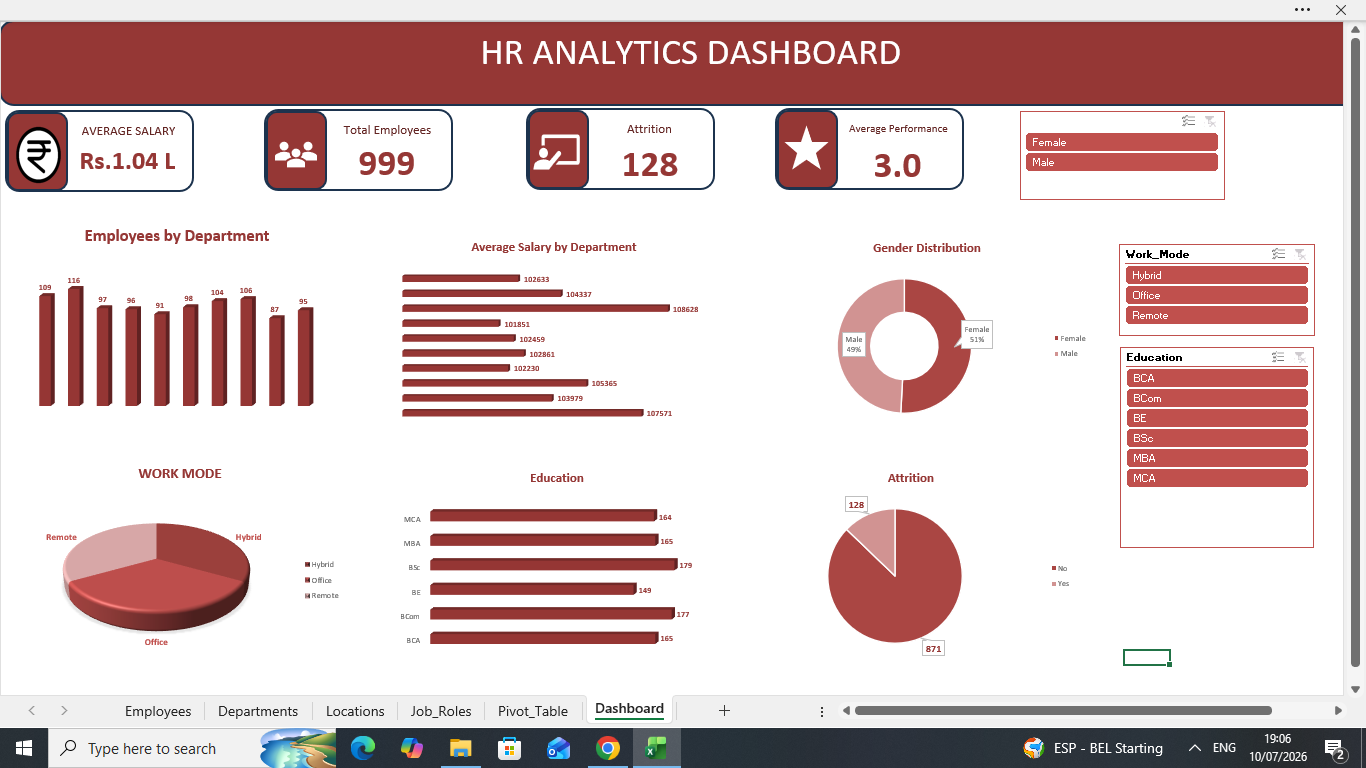

What the dashboard file says about the page in this screenshot:
{"tool":"powerbi","page":{"name":"Page 1","canvas":[1280,720],"ordinal":0},"visuals":[{"type":"textbox","box":[0,0,1280.2,79.2],"z":0},{"type":"card","fields":{"Values":["Departments.Total Employees"]},"box":[254.9,79.2,181.4,149.8],"z":1000},{"type":"card","fields":{"Values":["Departments.Average Salary"]},"box":[459.4,79.2,181.4,149.8],"z":2000},{"type":"card","fields":{"Values":["Departments.Attrition Count"]},"box":[663.8,79.2,181.4,149.8],"z":3000},{"type":"card","fields":{"Values":["Departments.Average Performance"]},"box":[865.4,79.2,181.4,149.8],"z":4000},{"type":"card","fields":{"Values":["Departments.Average Experience"]},"box":[1064.2,79.2,181.4,149.8],"z":5000},{"type":"clusteredColumnChart","title":"Employees by Department","fields":{"Category":["Departments.Department_ID"],"Y":["CountNonNull(Employees.Employee_ID)"]},"box":[254.9,234.7,306.7,252],"z":6000},{"type":"barChart","title":"Average Salary by Department","fields":{"Y":["Sum(Employees.Salary)"],"Category":["Departments.Department_ID"]},"box":[949,233.3,331.2,252],"z":7000},{"type":"donutChart","title":"Gender Distribution","fields":{"Category":["Employees.Gender"],"Y":["CountNonNull(Employees.Gender)"]},"box":[599,237.6,315.4,247.7],"z":8000},{"type":"pieChart","title":"Work Mode","fields":{"Y":["CountNonNull(Employees.Work_Mode)"],"Category":["Employees.Work_Mode"]},"box":[289.4,485.3,344.2,234.7],"z":9000},{"type":"clusteredBarChart","title":"Education Distribution","fields":{"Y":["CountNonNull(Employees.Employee_ID)"],"Category":["Employees.Education"]},"box":[633.6,485.3,315.4,234.7],"z":10000},{"type":"donutChart","title":" Attrition","fields":{"Y":["CountNonNull(Employees.Attrition)"],"Category":["Employees.Attrition"]},"box":[949,485.3,331.2,234.7],"z":11000},{"type":"slicer","fields":{"Values":["Employees.Work_Mode"]},"box":[0,603.4,217.4,113.8],"z":14000},{"type":"slicer","fields":{"Values":["Departments.Department_Name"]},"box":[0,265,207.4,321.1],"z":14001},{"type":"slicer","fields":{"Values":["Employees.Education"]},"box":[0,40.3,207.4,213.1],"z":14002}]}

Visuals, with their boxes on the page's 1280x720 design canvas (x1, y1, x2, y2). These are canvas units, not pixel positions in the 1366x768 screenshot, which may show the page scaled, cropped or inside an application window:
textbox: l=0, t=0, r=1280, b=79
card - Departments.Total Employees: l=255, t=79, r=436, b=229
card - Departments.Average Salary: l=459, t=79, r=641, b=229
card - Departments.Attrition Count: l=664, t=79, r=845, b=229
card - Departments.Average Performance: l=865, t=79, r=1047, b=229
card - Departments.Average Experience: l=1064, t=79, r=1246, b=229
"Employees by Department" clusteredColumnChart: l=255, t=235, r=562, b=487
"Average Salary by Department" barChart: l=949, t=233, r=1280, b=485
"Gender Distribution" donutChart: l=599, t=238, r=914, b=485
"Work Mode" pieChart: l=289, t=485, r=634, b=720
"Education Distribution" clusteredBarChart: l=634, t=485, r=949, b=720
" Attrition" donutChart: l=949, t=485, r=1280, b=720
slicer - Employees.Work_Mode: l=0, t=603, r=217, b=717
slicer - Departments.Department_Name: l=0, t=265, r=207, b=586
slicer - Employees.Education: l=0, t=40, r=207, b=253
